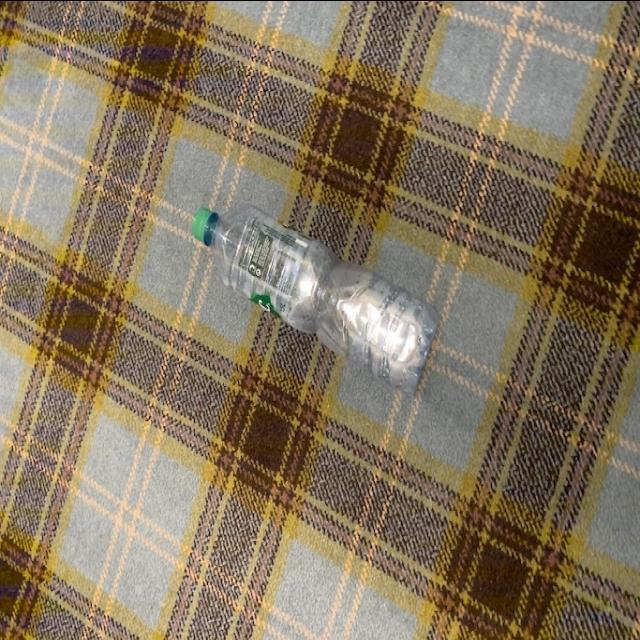PET: (195, 194, 445, 398)
